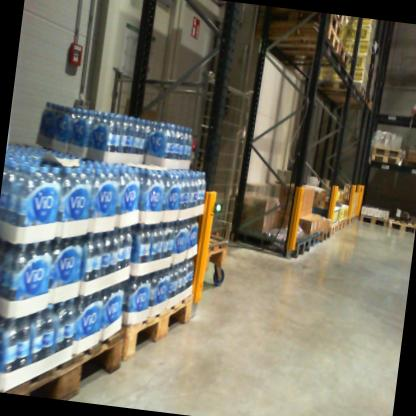pallet: (0, 305, 132, 406), (117, 279, 202, 383), (253, 29, 354, 71), (254, 16, 346, 59), (222, 219, 313, 261), (249, 5, 343, 41), (311, 75, 368, 101), (366, 147, 401, 170), (384, 211, 416, 233), (366, 140, 406, 157), (357, 207, 389, 228), (308, 227, 322, 250), (317, 224, 331, 245), (399, 157, 416, 172), (336, 216, 348, 232), (329, 219, 339, 234), (335, 15, 347, 27)
